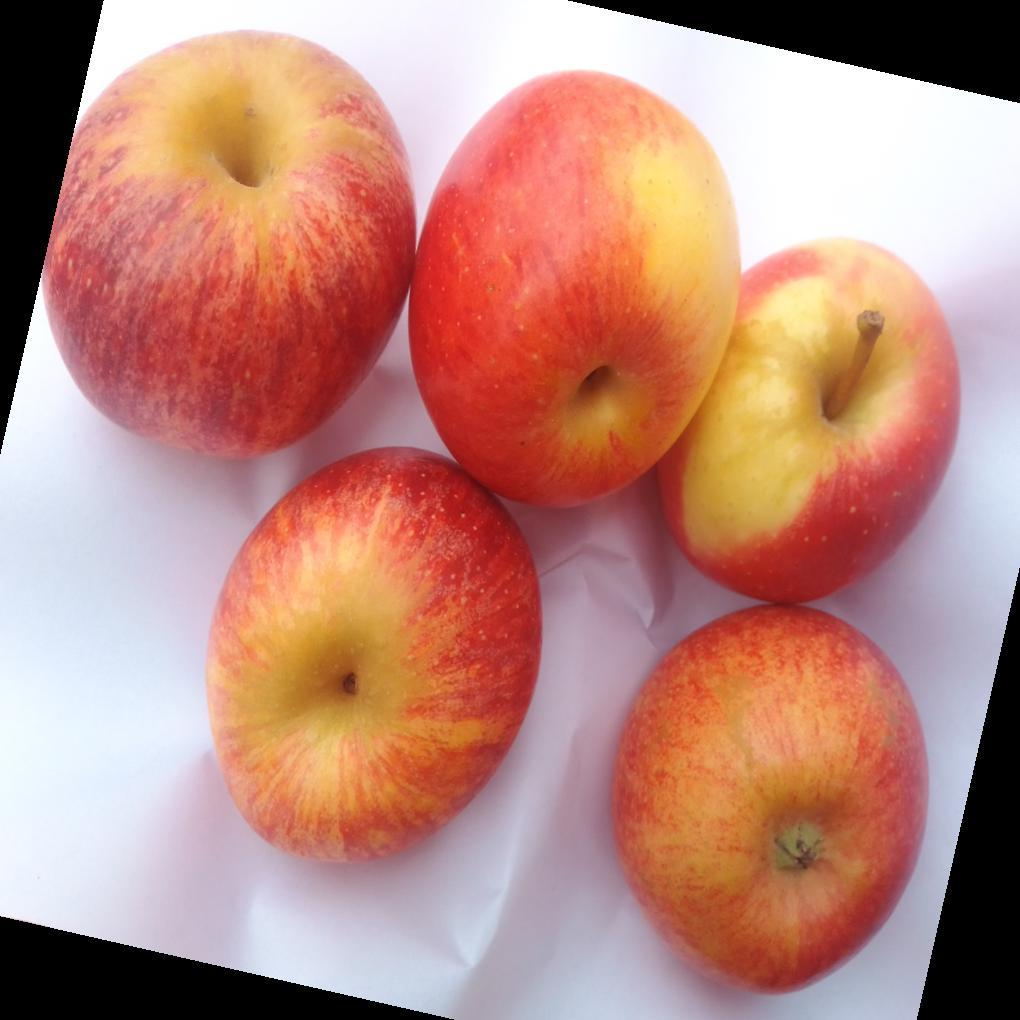FreshGuava: (36, 83, 962, 995)
